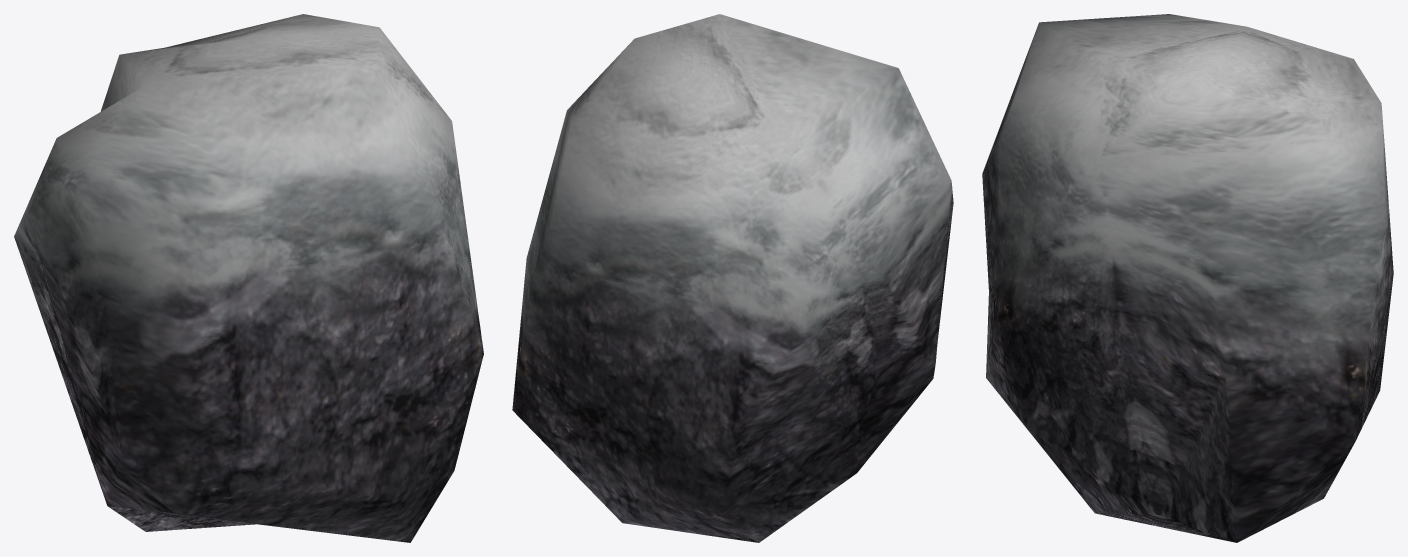
The model's file is snow_d_a08d.fbx.
3 renders of one model, left to right at view 1: azimuth 30°, elevation 25°; view 2: azimuth 150°, elevation 25°; view 3: azimuth 270°, elevation 25°, orthographic. The views are drawn at different scales.
Visible parts, largest first — view 1: d_a08d; view 2: d_a08d; view 3: d_a08d.
Boxes of the visible parts, box(x1,y1,x2,y2) form: d_a08d: box(14, 14, 483, 542); d_a08d: box(512, 14, 953, 542); d_a08d: box(982, 14, 1393, 542).
Size of the model in its own units: 132 by 166 by 135.
